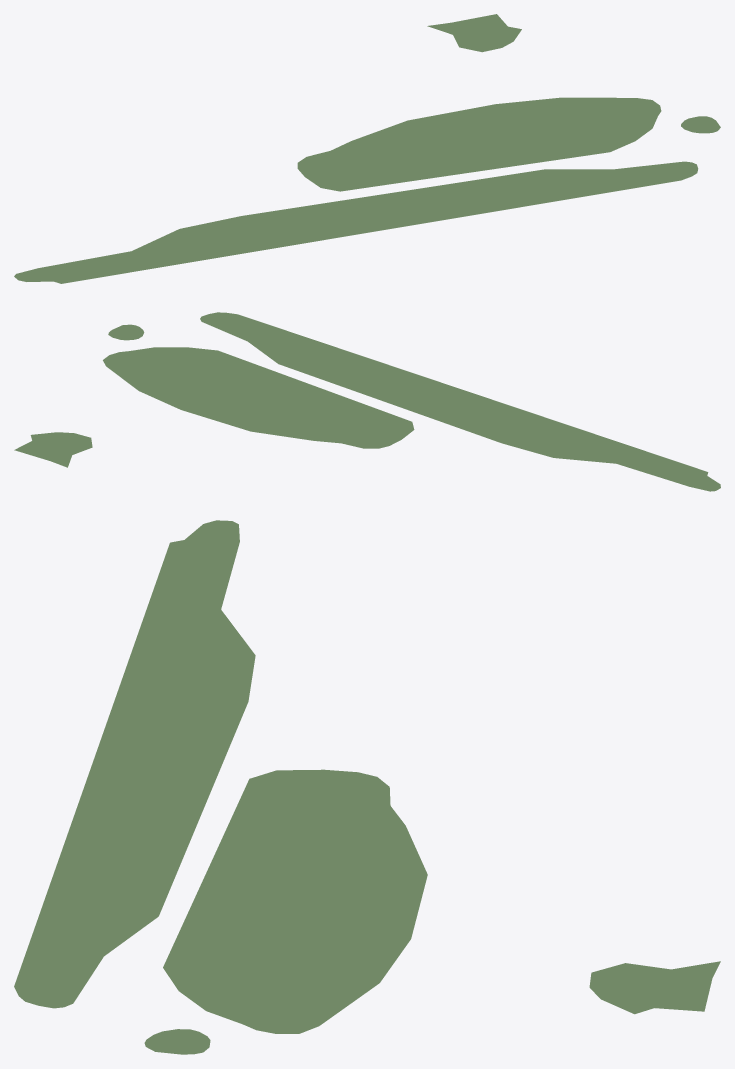
The model's file is c_1645_17832_parks.glb.
3 views of the same model, one above another, from view 1: azimuth 30°, elevation 25°; view 2: azimuth 150°, elevation 25°; view 3: azimuth 270°, elevation 25° (orthographic). The views are drawn at different scales.
Parts seen in each view (by area): view 1: geometry_0; view 2: geometry_0; view 3: geometry_0.
Boxes of the visible parts, <box> form: geometry_0: <box>14,14,720,283</box>; geometry_0: <box>14,312,720,491</box>; geometry_0: <box>14,520,720,1054</box>.
Size of the model in its own units: 510 by 0 by 285.
